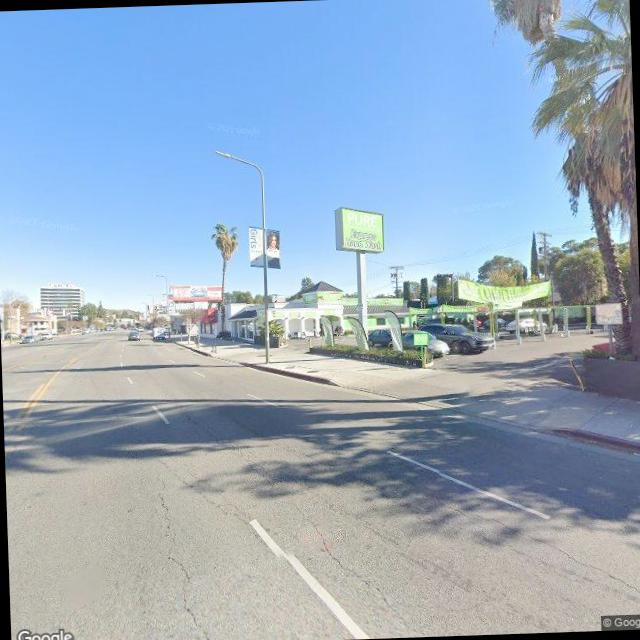pothole: (438, 492, 640, 607), (284, 494, 408, 637), (150, 469, 203, 640)
